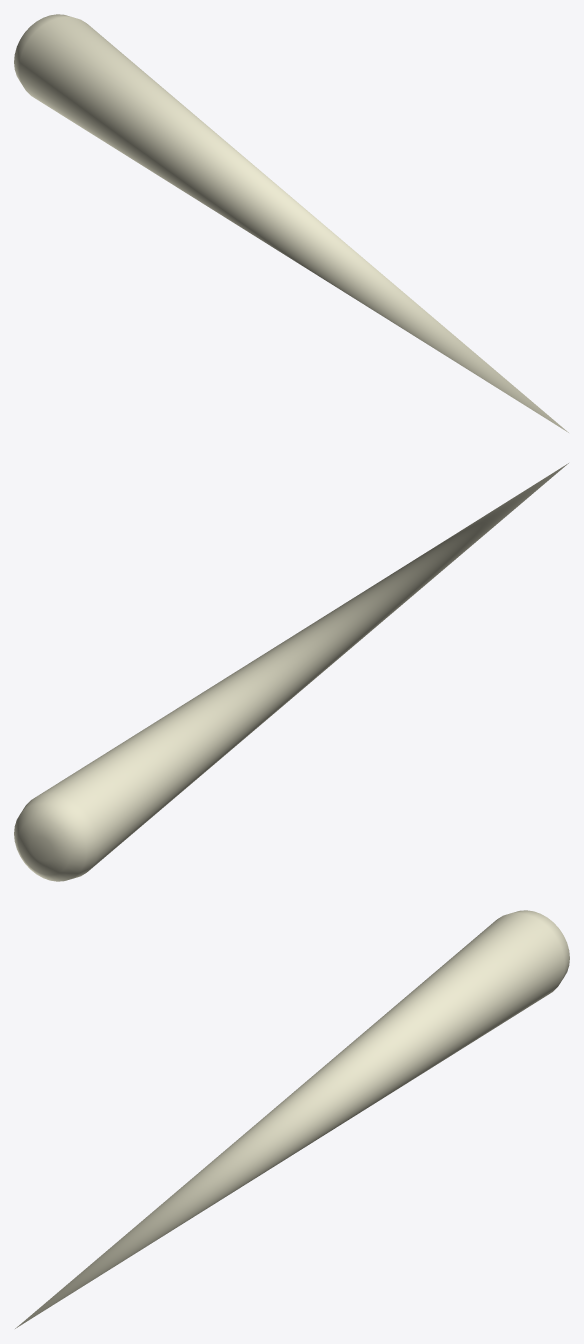
Rendered from Onion Darts.fbx.
3 views of the same model, one above another, from view 1: azimuth 30°, elevation 25°; view 2: azimuth 150°, elevation 25°; view 3: azimuth 330°, elevation 25° (orthographic).
Parts seen in each view (by area): view 1: Cone; view 2: Cone; view 3: Cone.
Boxes of the visible parts, x1,y1,x2,y2 form: Cone: (14, 14, 568, 432); Cone: (14, 463, 568, 881); Cone: (15, 910, 569, 1328).
Bounding box in the file's own units: 84.12 × 84.12 × 970.
